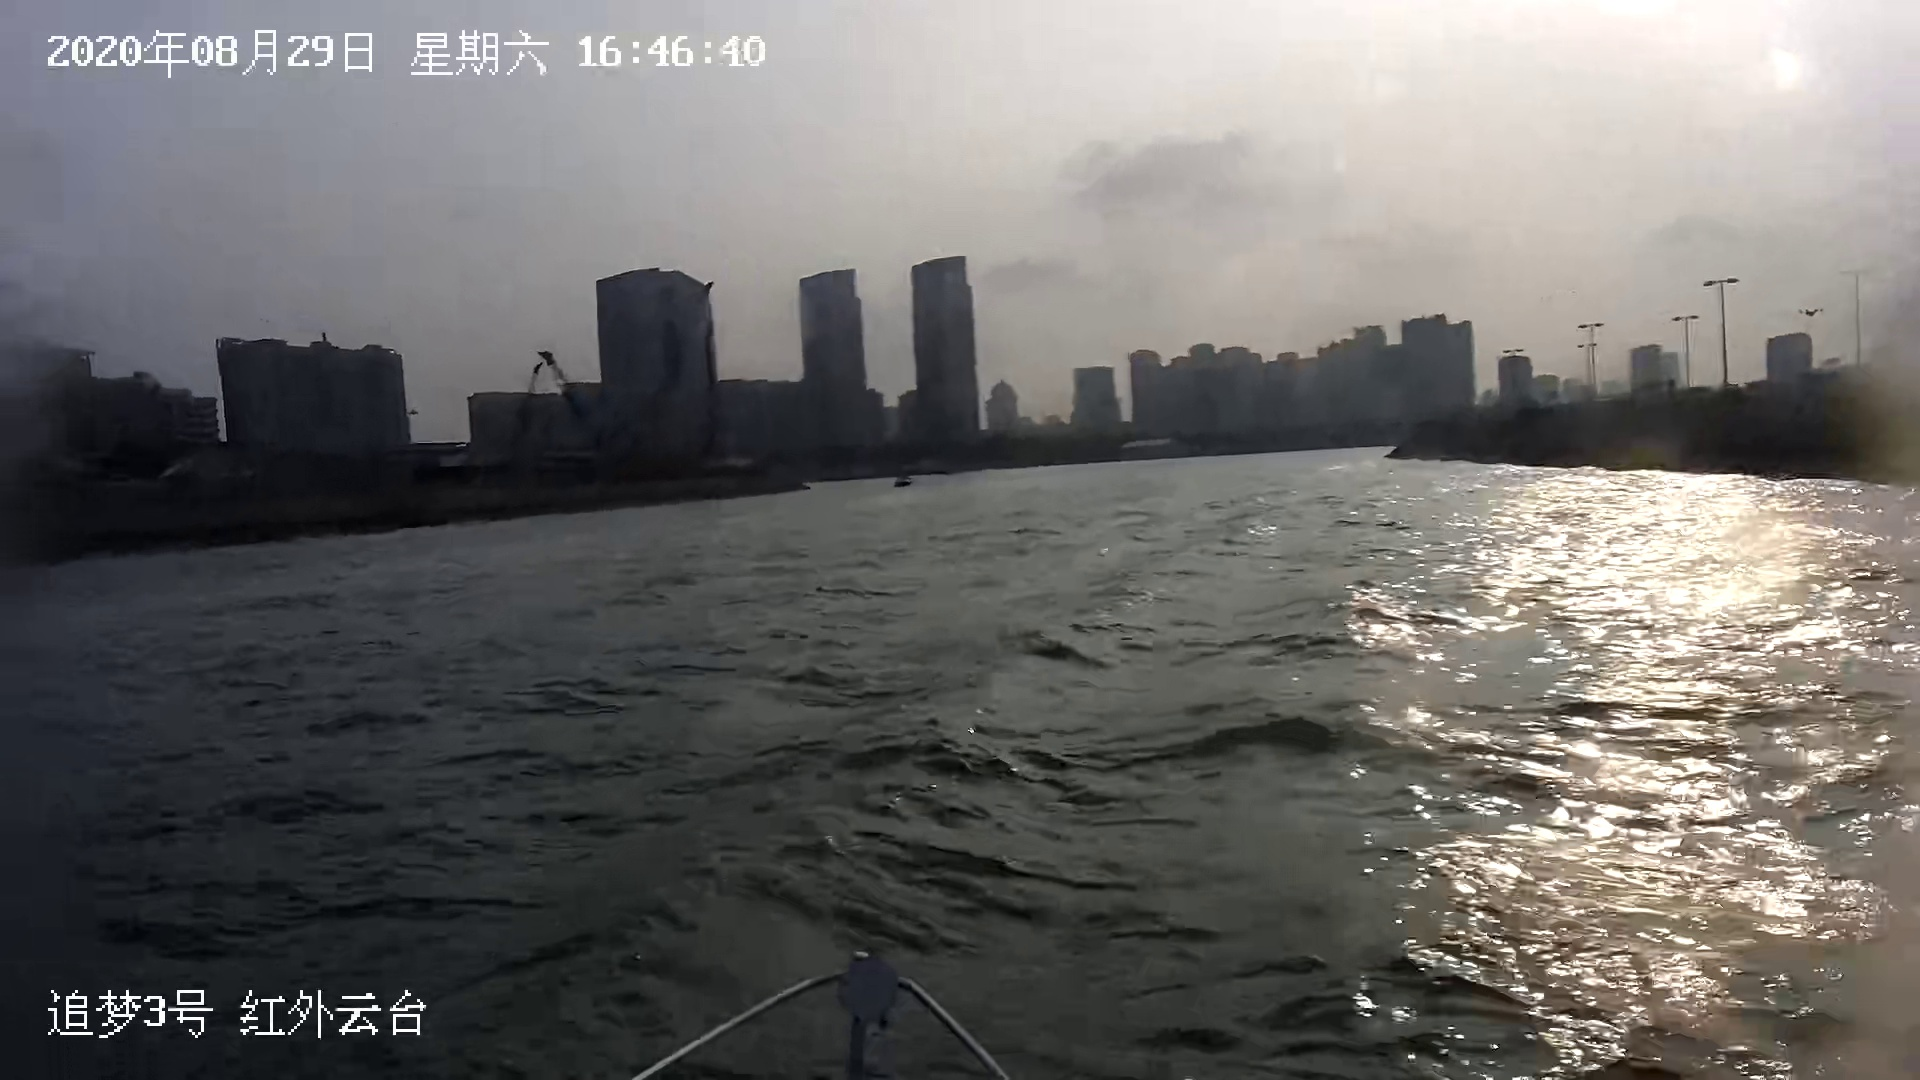barrier: (882, 473, 916, 485)
coast: (3, 253, 1920, 559)
